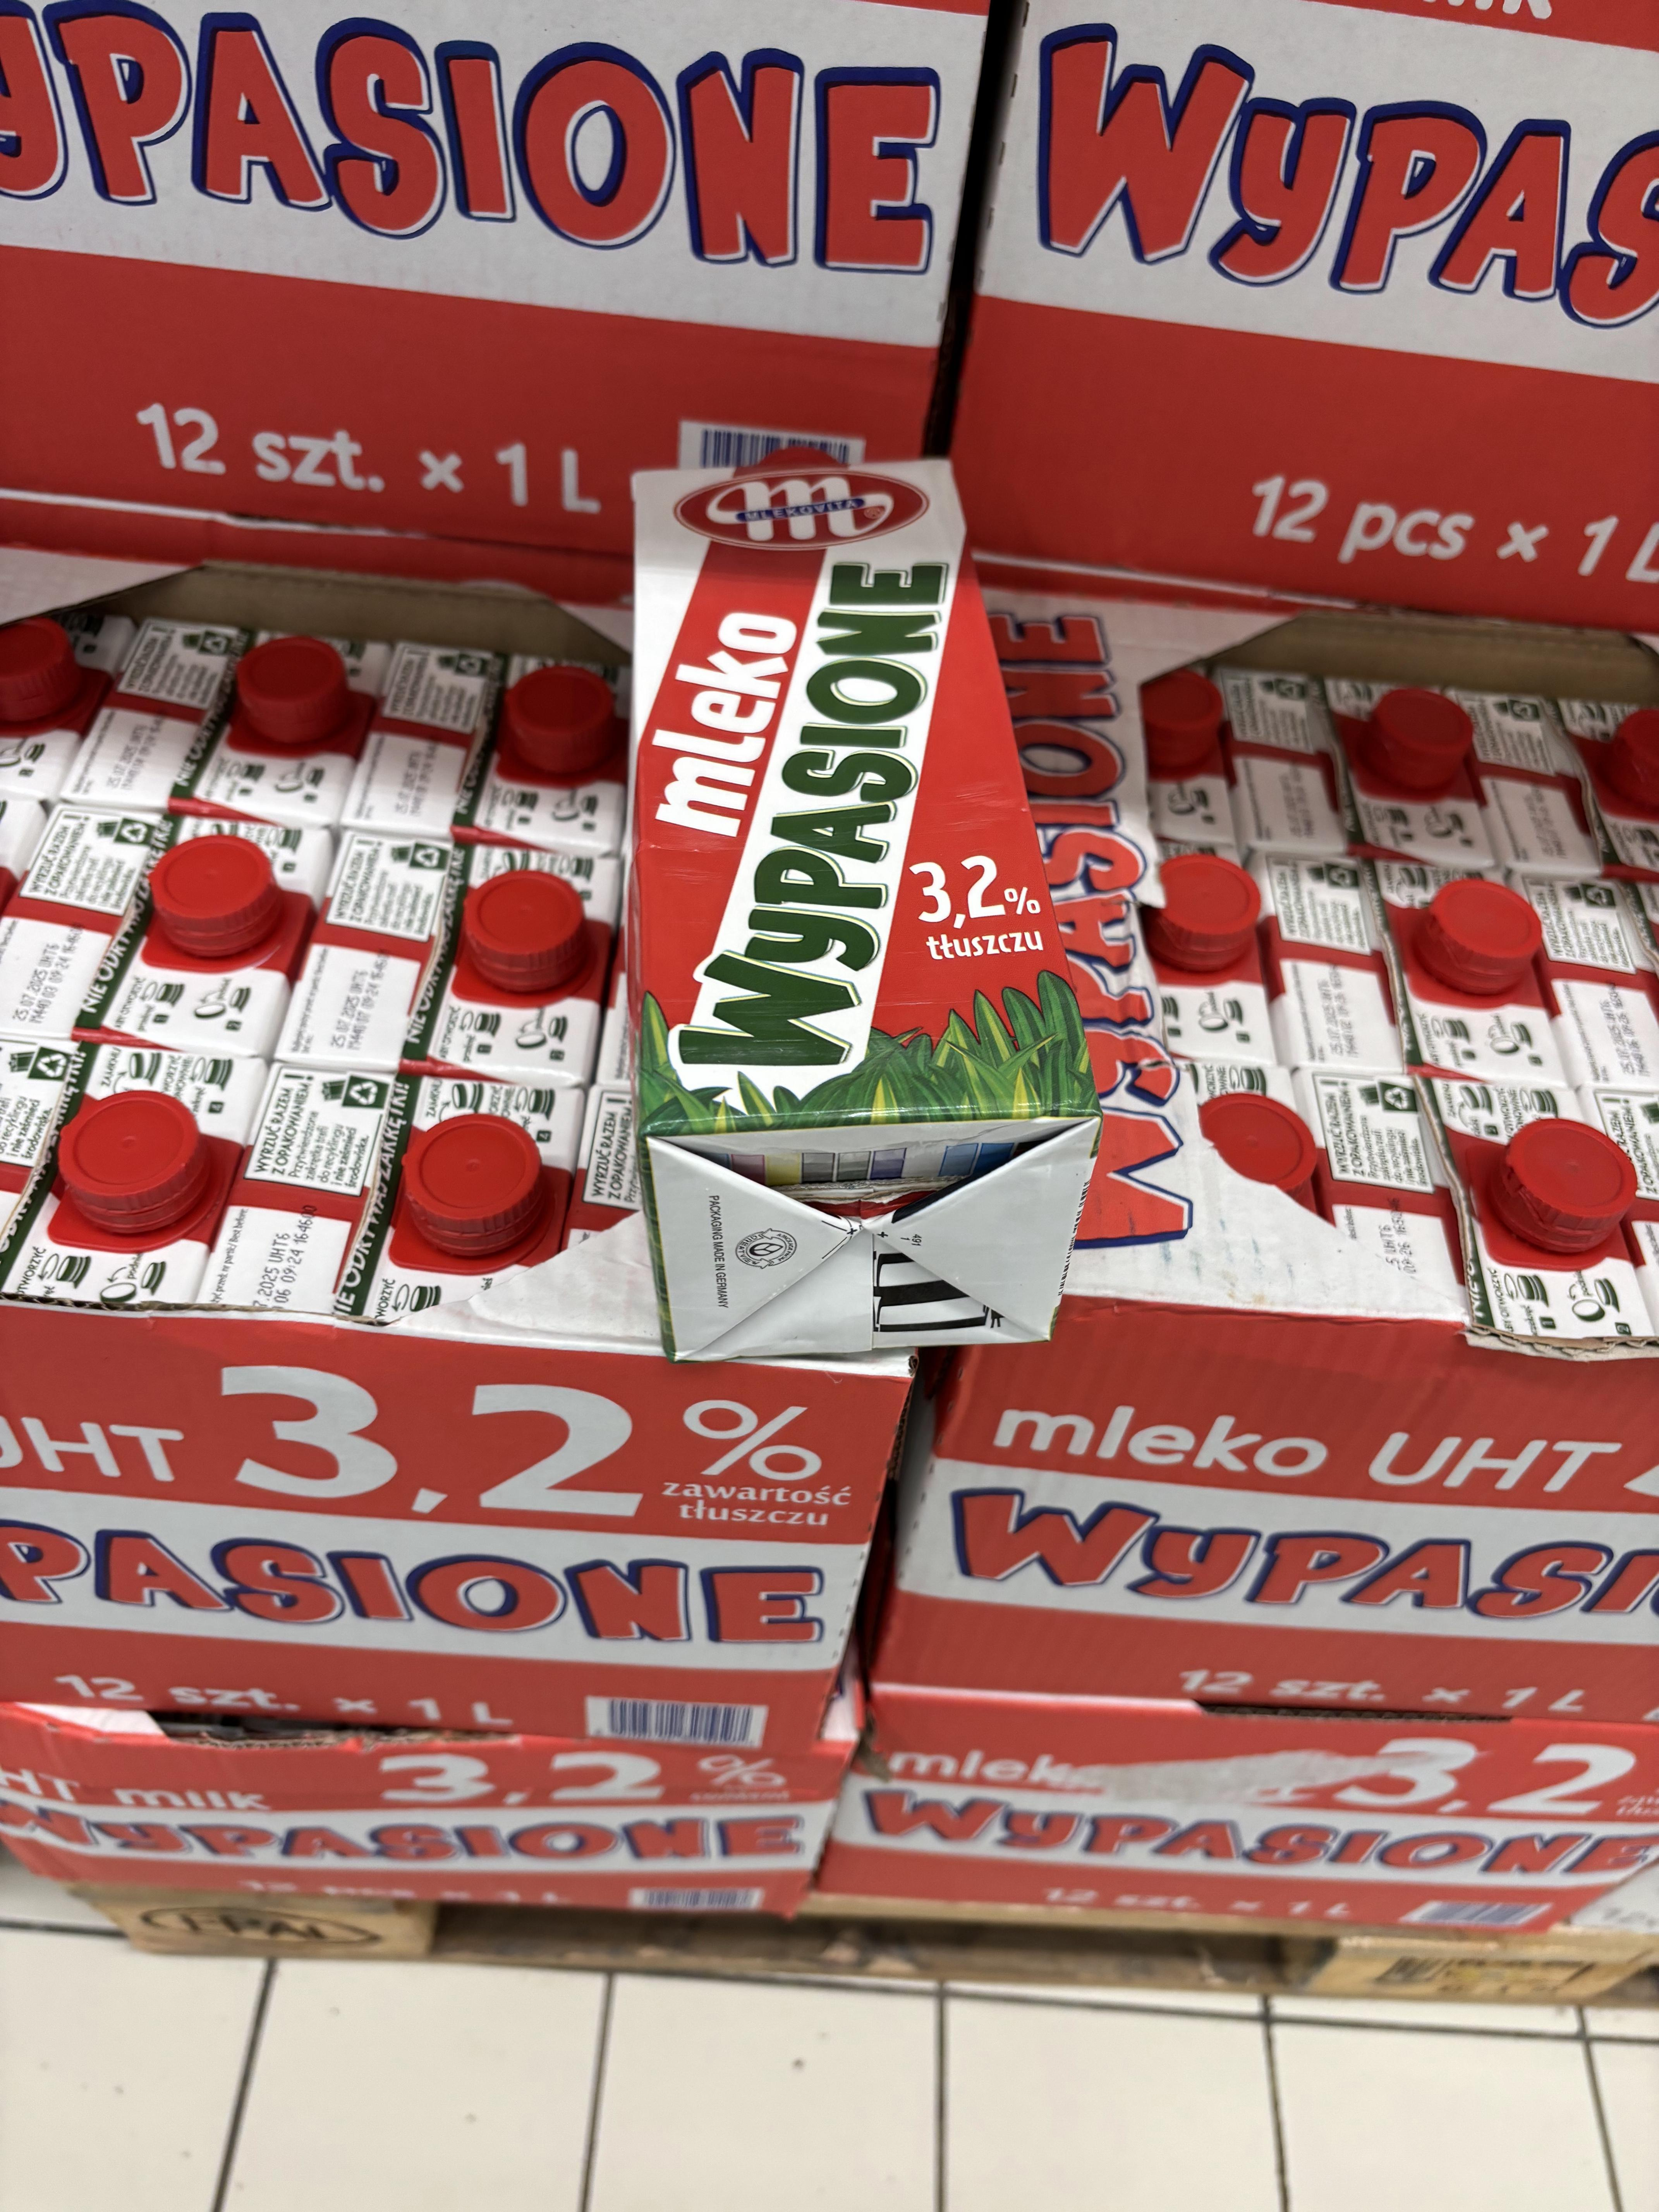Milk: (608, 442, 1131, 1322)
